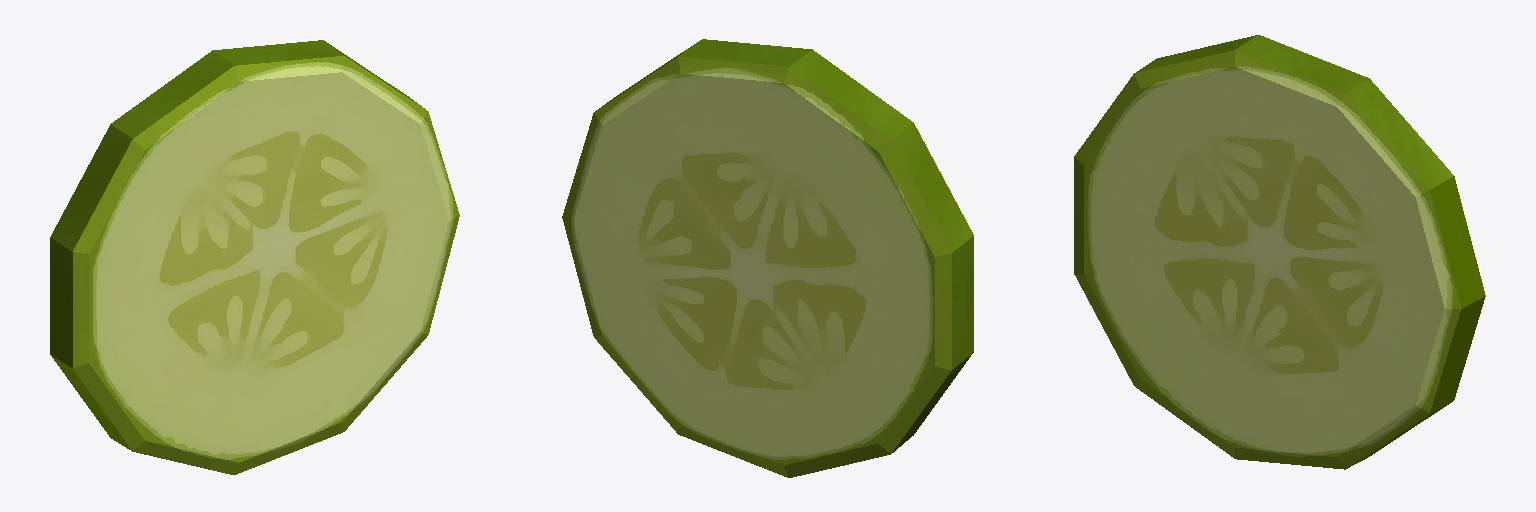
The picture shows the model from 3 angles: view 1: azimuth 30°, elevation 25°; view 2: azimuth 150°, elevation 25°; view 3: azimuth 330°, elevation 25°; orthographic projection.
Parts seen in each view (by area): view 1: pSphere3; view 2: pSphere3; view 3: pSphere3.
Boxes of the visible parts, x1,y1,x2,y2 form: pSphere3: [50, 40, 459, 474]; pSphere3: [562, 39, 973, 477]; pSphere3: [1074, 35, 1485, 469].
Size of the model in its own units: 2.36 by 2.39 by 0.2996.
1 materials, 1 textured.